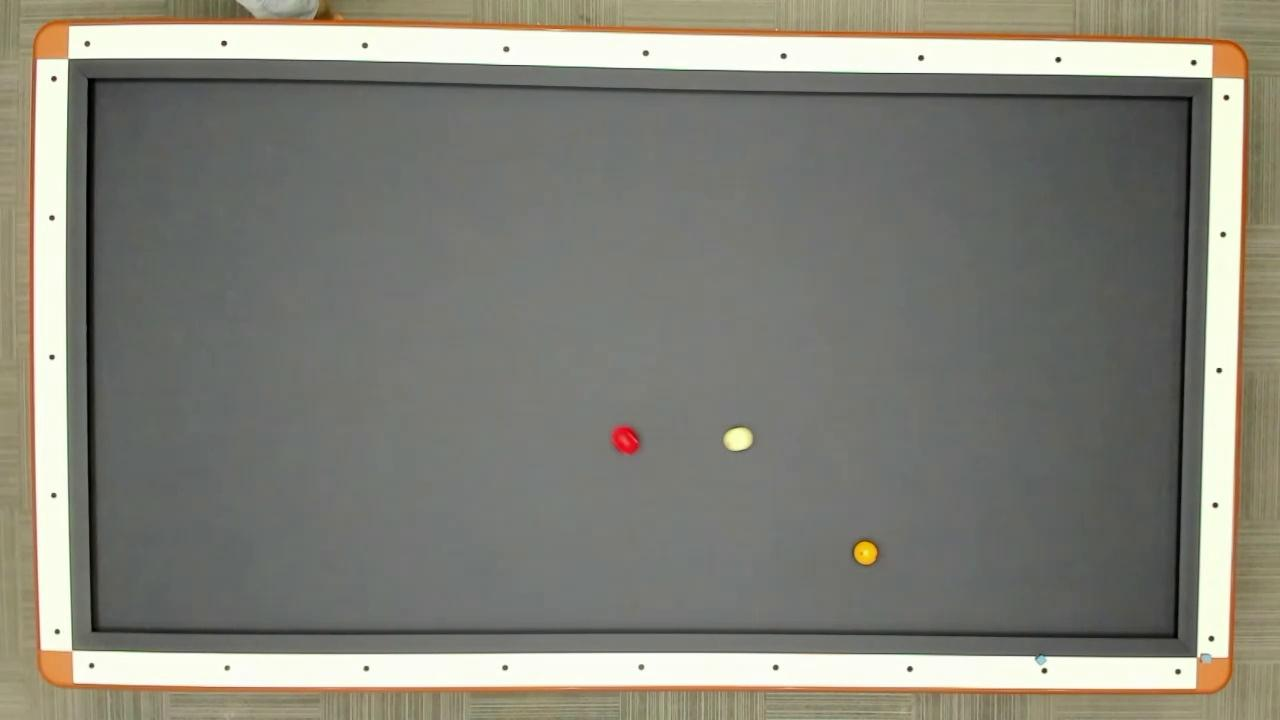Red: (610, 424, 641, 456)
White: (722, 424, 754, 452)
Yellow: (851, 538, 880, 568)
